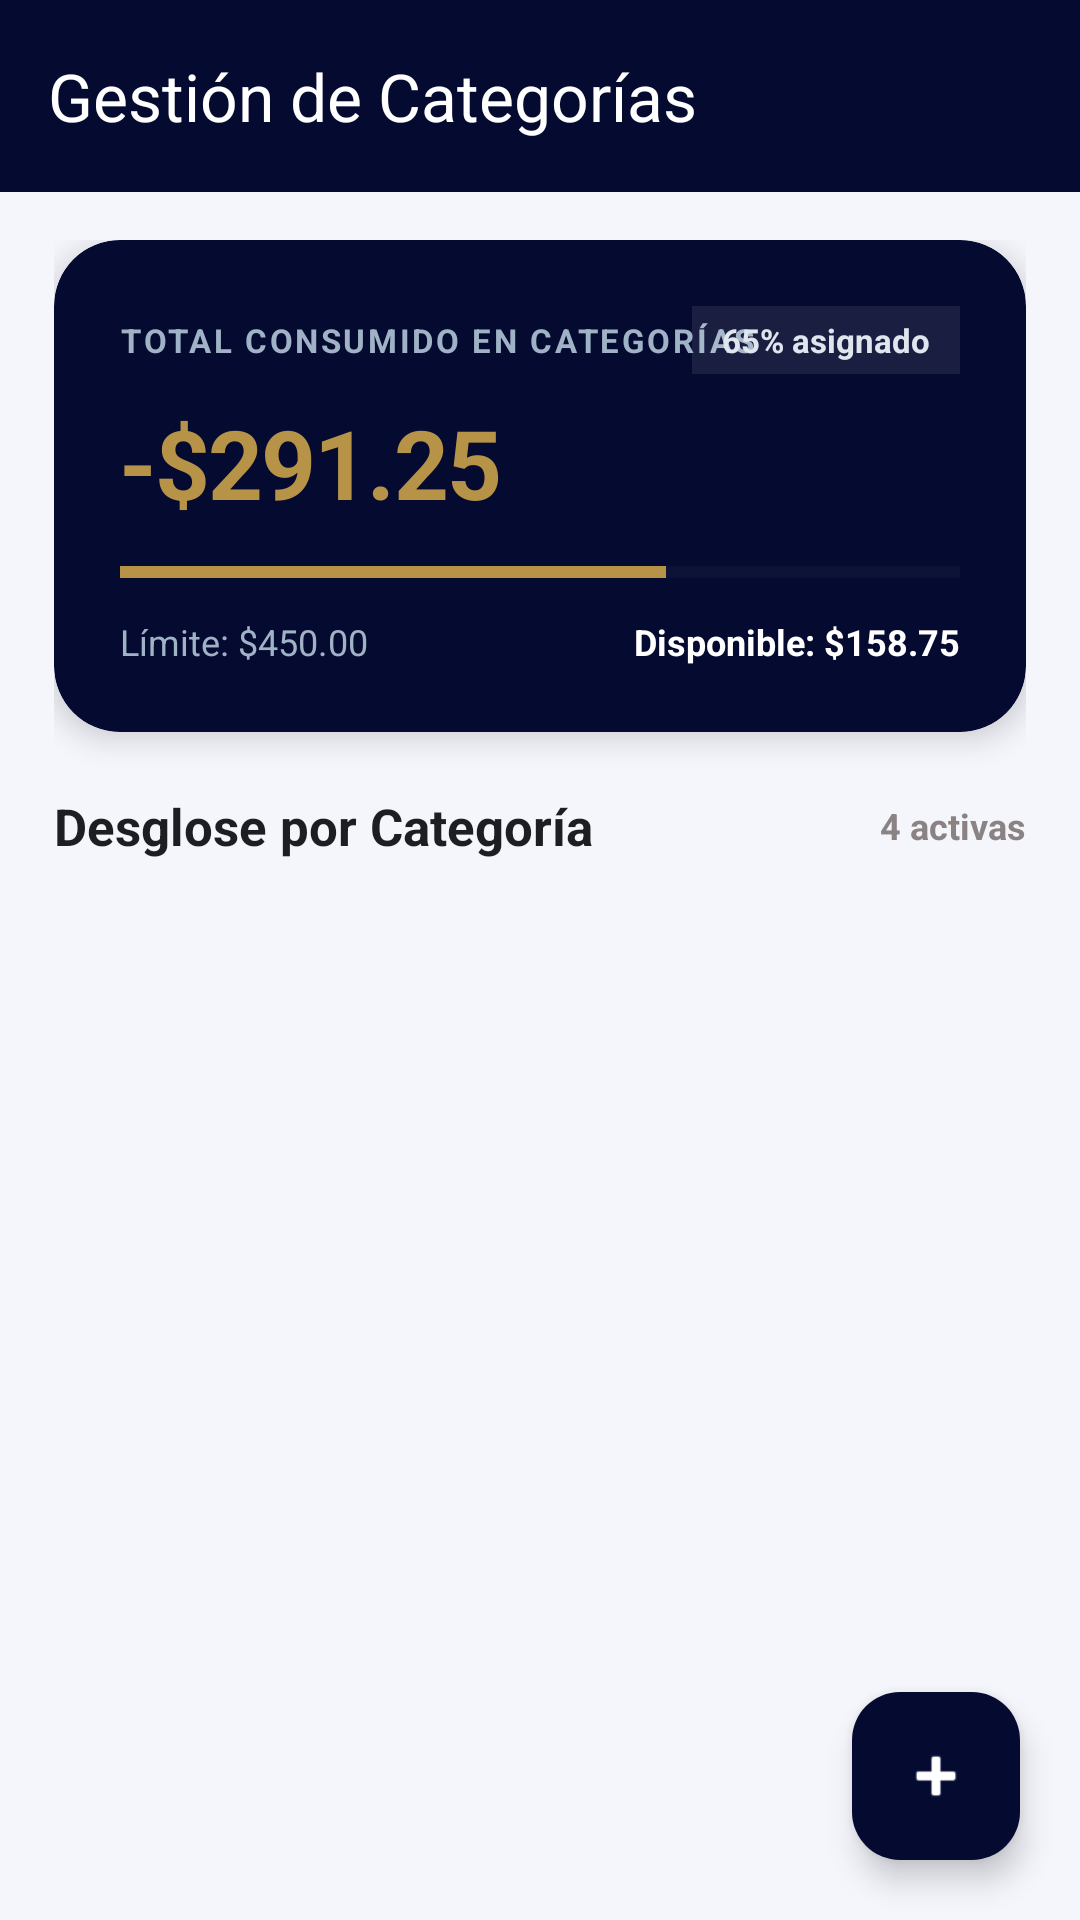

Icon click points for this 1080px x 1920px phone screenshot, format [x,y]:
Nueva Categoría: [936,1776]
